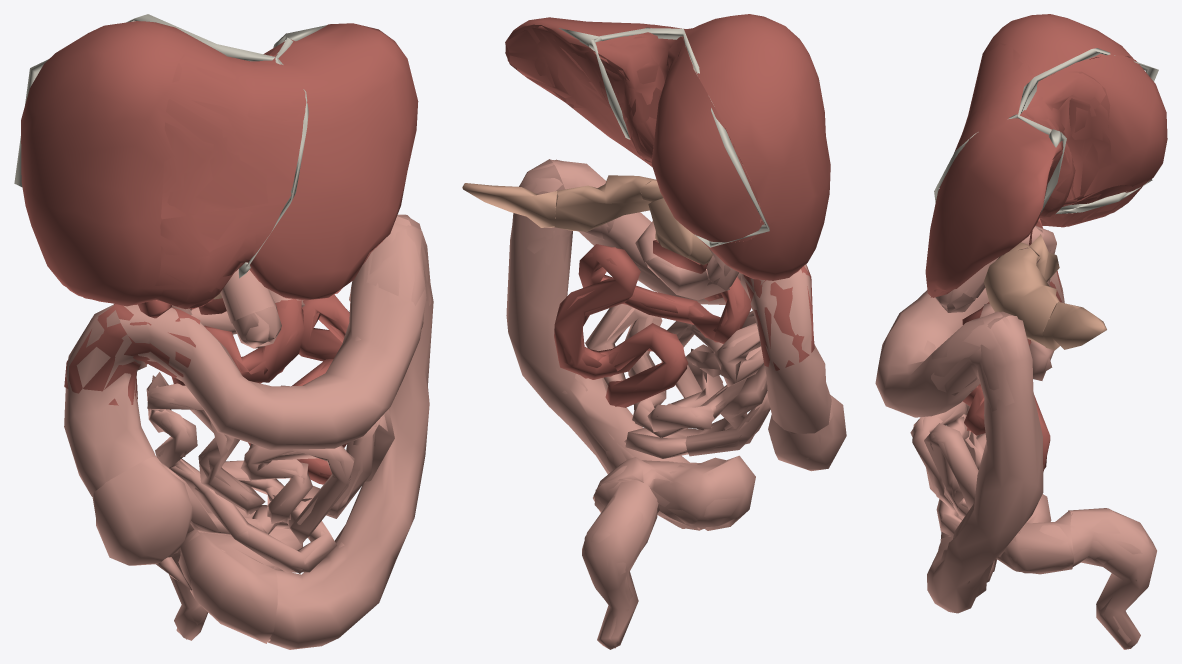
Rendered from adult_female.digestive.LOD4.glb.
3 views of the same model, side by side, from view 1: azimuth 30°, elevation 25°; view 2: azimuth 150°, elevation 25°; view 3: azimuth 270°, elevation 25° (orthographic). The views are drawn at different scales.
Visible parts, largest first — view 1: ADULT.FEMALE.DIGESTIVE.CAPSULE_OF_THE_LIVER, ADULT.FEMALE.DIGESTIVE.TRANSVERSE_COLON, ADULT.FEMALE.DIGESTIVE.ILEUM, ADULT.FEMALE.DIGESTIVE.DESCENDING_COLON, ADULT.FEMALE.DIGESTIVE.LEFT_SUPEROMEDIAL_SEGMENT1, ADULT.FEMALE.DIGESTIVE.ASCENDING_COLON, ADULT.FEMALE.DIGESTIVE.SIGMOID_COLON, ADULT.FEMALE.DIGESTIVE.CAECUM, ADULT.FEMALE.DIGESTIVE.JEJENUM, ADULT.FEMALE.DIGESTIVE.LEFT_INFEROMEDIAL_SEGMENT, ADULT.FEMALE.DIGESTIVE.HEPATIC_FLEXURE_OF_COLON, ADULT.FEMALE.DIGESTIVE.SPLENIC_FLEXURE_OF_COLON (+6 smaller); view 2: ADULT.FEMALE.DIGESTIVE.CAPSULE_OF_THE_LIVER, ADULT.FEMALE.DIGESTIVE.BARE_AREA_OF_LIVER, ADULT.FEMALE.DIGESTIVE.DESCENDING_COLON, ADULT.FEMALE.DIGESTIVE.JEJENUM, ADULT.FEMALE.DIGESTIVE.ILEUM, ADULT.FEMALE.DIGESTIVE.RECTUM, ADULT.FEMALE.DIGESTIVE.ASCENDING_COLON, ADULT.FEMALE.DIGESTIVE.SIGMOID_COLON, ADULT.FEMALE.DIGESTIVE.DIAPHRAGMATIC_SURFACE_OF_LIVER, ADULT.FEMALE.DIGESTIVE.BODY_OF_PANCREAS, ADULT.FEMALE.DIGESTIVE.TRANSVERSE_COLON, ADULT.FEMALE.DIGESTIVE.CAECUM (+12 smaller); view 3: ADULT.FEMALE.DIGESTIVE.CAPSULE_OF_THE_LIVER, ADULT.FEMALE.DIGESTIVE.DESCENDING_COLON, ADULT.FEMALE.DIGESTIVE.BARE_AREA_OF_LIVER, ADULT.FEMALE.DIGESTIVE.TRANSVERSE_COLON, ADULT.FEMALE.DIGESTIVE.RECTUM, ADULT.FEMALE.DIGESTIVE.ILEUM, ADULT.FEMALE.DIGESTIVE.BODY_OF_PANCREAS, ADULT.FEMALE.DIGESTIVE.SIGMOID_COLON, ADULT.FEMALE.DIGESTIVE.CAUDATE_LOBE, ADULT.FEMALE.DIGESTIVE.SPLENIC_FLEXURE_OF_COLON, ADULT.FEMALE.DIGESTIVE.TAIL_OF_PANCREAS, ADULT.FEMALE.DIGESTIVE.LEFT_SUPEROMEDIAL_SEGMENT1 (+6 smaller).
Part boxes in pixels (x1=…): ADULT.FEMALE.DIGESTIVE.CAPSULE_OF_THE_LIVER: x1=21, y1=21, x2=418, y2=309; ADULT.FEMALE.DIGESTIVE.TRANSVERSE_COLON: x1=119, y1=216, x2=426, y2=449; ADULT.FEMALE.DIGESTIVE.ILEUM: x1=146, y1=372, x2=394, y2=573; ADULT.FEMALE.DIGESTIVE.DESCENDING_COLON: x1=268, y1=216, x2=433, y2=649; ADULT.FEMALE.DIGESTIVE.LEFT_SUPEROMEDIAL_SEGMENT1: x1=161, y1=45, x2=308, y2=219; ADULT.FEMALE.DIGESTIVE.ASCENDING_COLON: x1=64, y1=304, x2=155, y2=496; ADULT.FEMALE.DIGESTIVE.SIGMOID_COLON: x1=178, y1=511, x2=302, y2=643; ADULT.FEMALE.DIGESTIVE.CAECUM: x1=92, y1=456, x2=192, y2=565; ADULT.FEMALE.DIGESTIVE.JEJENUM: x1=172, y1=294, x2=349, y2=484; ADULT.FEMALE.DIGESTIVE.LEFT_INFEROMEDIAL_SEGMENT: x1=155, y1=204, x2=284, y2=308; ADULT.FEMALE.DIGESTIVE.HEPATIC_FLEXURE_OF_COLON: x1=64, y1=304, x2=200, y2=405; ADULT.FEMALE.DIGESTIVE.SPLENIC_FLEXURE_OF_COLON: x1=349, y1=214, x2=431, y2=328; ADULT.FEMALE.DIGESTIVE.CAPSULE_OF_THE_LIVER: x1=505, y1=14, x2=830, y2=280; ADULT.FEMALE.DIGESTIVE.BARE_AREA_OF_LIVER: x1=590, y1=35, x2=760, y2=242; ADULT.FEMALE.DIGESTIVE.DESCENDING_COLON: x1=506, y1=159, x2=703, y2=530; ADULT.FEMALE.DIGESTIVE.JEJENUM: x1=554, y1=244, x2=751, y2=407; ADULT.FEMALE.DIGESTIVE.ILEUM: x1=585, y1=304, x2=767, y2=458; ADULT.FEMALE.DIGESTIVE.RECTUM: x1=582, y1=479, x2=658, y2=649; ADULT.FEMALE.DIGESTIVE.ASCENDING_COLON: x1=750, y1=264, x2=831, y2=433; ADULT.FEMALE.DIGESTIVE.SIGMOID_COLON: x1=593, y1=455, x2=755, y2=530; ADULT.FEMALE.DIGESTIVE.DIAPHRAGMATIC_SURFACE_OF_LIVER: x1=505, y1=24, x2=802, y2=278; ADULT.FEMALE.DIGESTIVE.BODY_OF_PANCREAS: x1=554, y1=175, x2=656, y2=231; ADULT.FEMALE.DIGESTIVE.TRANSVERSE_COLON: x1=551, y1=159, x2=764, y2=304; ADULT.FEMALE.DIGESTIVE.CAECUM: x1=768, y1=394, x2=846, y2=471; ADULT.FEMALE.DIGESTIVE.CAPSULE_OF_THE_LIVER: x1=925, y1=14, x2=1135, y2=297; ADULT.FEMALE.DIGESTIVE.DESCENDING_COLON: x1=927, y1=315, x2=1043, y2=613; ADULT.FEMALE.DIGESTIVE.BARE_AREA_OF_LIVER: x1=1023, y1=55, x2=1167, y2=208; ADULT.FEMALE.DIGESTIVE.TRANSVERSE_COLON: x1=875, y1=288, x2=1013, y2=417; ADULT.FEMALE.DIGESTIVE.RECTUM: x1=1068, y1=508, x2=1156, y2=649; ADULT.FEMALE.DIGESTIVE.ILEUM: x1=910, y1=340, x2=1054, y2=536; ADULT.FEMALE.DIGESTIVE.BODY_OF_PANCREAS: x1=984, y1=248, x2=1059, y2=346; ADULT.FEMALE.DIGESTIVE.SIGMOID_COLON: x1=940, y1=494, x2=1073, y2=574; ADULT.FEMALE.DIGESTIVE.CAUDATE_LOBE: x1=1024, y1=71, x2=1111, y2=217; ADULT.FEMALE.DIGESTIVE.SPLENIC_FLEXURE_OF_COLON: x1=931, y1=311, x2=1033, y2=415; ADULT.FEMALE.DIGESTIVE.TAIL_OF_PANCREAS: x1=1042, y1=302, x2=1106, y2=350; ADULT.FEMALE.DIGESTIVE.LEFT_SUPEROMEDIAL_SEGMENT1: x1=949, y1=43, x2=1034, y2=168.
Size of the model in its own units: 0.2539 by 0.4459 by 0.2011.
